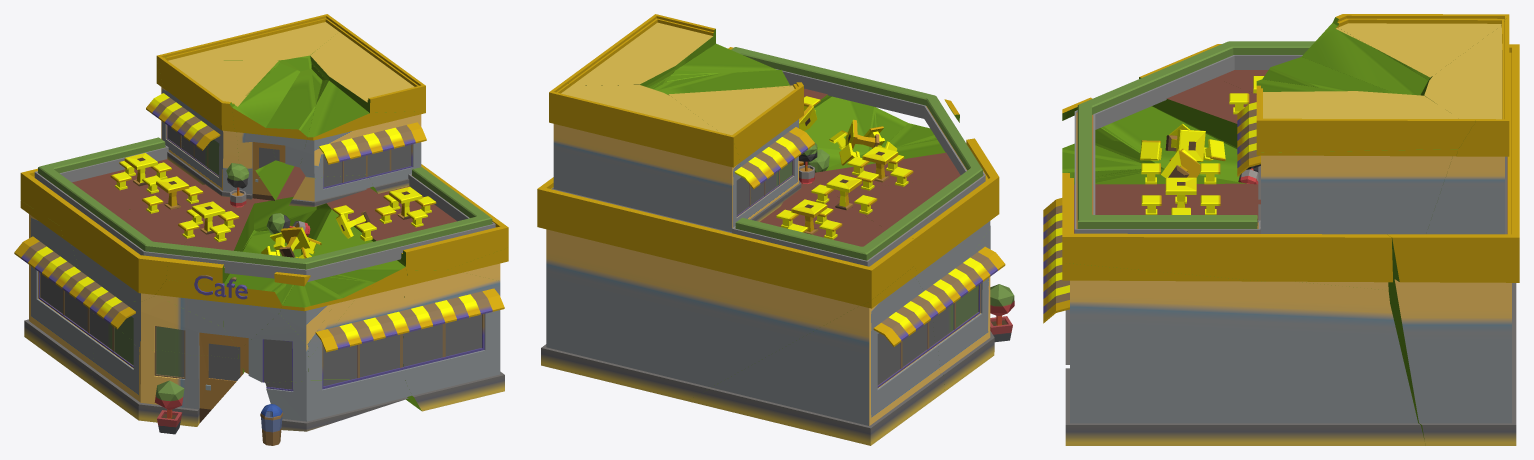
The model's file is cafe_cell.fbx.
3 renders of one model, left to right at view 1: azimuth 30°, elevation 25°; view 2: azimuth 150°, elevation 25°; view 3: azimuth 270°, elevation 25°, orthographic. The views are drawn at different scales.
Parts seen in each view (by area): view 1: polySurface55, polySurface1_cell.007, polySurface1_cell.002, polySurface1_cell.020, polySurface9_cell.002, polySurface1_cell.014, polySurface1_cell.001, polySurface1_cell.013, polySurface1_cell.017, polySurface9_cell.012, polySurface9_cell.011, polySurface1_cell.018 (+27 smaller); view 2: polySurface1_cell.013, polySurface9_cell.011, polySurface1_cell.001, polySurface55, polySurface1_cell.014, polySurface9_cell.002, polySurface9_cell.012, polySurface1_cell.002, polySurface18, polySurface1_cell.020, polySurface1_cell.009, polySurface9_cell.006 (+11 smaller); view 3: polySurface1_cell.007, polySurface1_cell.013, polySurface1_cell.017, polySurface9_cell.010, polySurface9_cell.011, polySurface55, polySurface9_cell.012, polySurface1_cell.012, polySurface9_cell.002, polySurface9_cell.004, polySurface1_cell.010, polySurface1_cell.009 (+10 smaller).
Boxes of the visible parts, x1,y1,x2,y2 form: polySurface55: [34, 137, 495, 281]; polySurface1_cell.007: [403, 270, 504, 411]; polySurface1_cell.002: [91, 312, 244, 426]; polySurface1_cell.020: [301, 209, 407, 380]; polySurface9_cell.002: [156, 55, 279, 184]; polySurface1_cell.014: [60, 201, 193, 301]; polySurface1_cell.001: [20, 200, 94, 386]; polySurface1_cell.013: [20, 159, 316, 231]; polySurface1_cell.017: [316, 164, 508, 270]; polySurface9_cell.012: [310, 23, 425, 112]; polySurface9_cell.011: [156, 14, 339, 171]; polySurface1_cell.018: [265, 379, 411, 431]; polySurface1_cell.013: [537, 177, 914, 400]; polySurface9_cell.011: [549, 82, 760, 233]; polySurface1_cell.001: [687, 266, 944, 445]; polySurface55: [731, 47, 985, 266]; polySurface1_cell.014: [831, 163, 999, 290]; polySurface9_cell.002: [668, 82, 803, 220]; polySurface9_cell.012: [563, 14, 715, 87]; polySurface1_cell.002: [933, 280, 994, 391]; polySurface18: [873, 246, 1005, 346]; polySurface1_cell.020: [804, 96, 882, 167]; polySurface1_cell.009: [811, 138, 990, 191]; polySurface9_cell.006: [653, 70, 789, 94]; polySurface1_cell.007: [1065, 304, 1425, 445]; polySurface1_cell.013: [1387, 44, 1519, 445]; polySurface1_cell.017: [1062, 173, 1392, 290]; polySurface9_cell.010: [1256, 149, 1458, 234]; polySurface9_cell.011: [1421, 16, 1509, 234]; polySurface55: [1074, 41, 1314, 233]; polySurface9_cell.012: [1256, 85, 1475, 152]; polySurface1_cell.012: [1062, 262, 1389, 303]; polySurface9_cell.002: [1333, 14, 1509, 85]; polySurface9_cell.004: [1301, 22, 1428, 95]; polySurface1_cell.010: [1095, 106, 1239, 181]; polySurface1_cell.009: [1139, 55, 1256, 148].
Size of the model in its own units: 1472 by 1098 by 1469.
